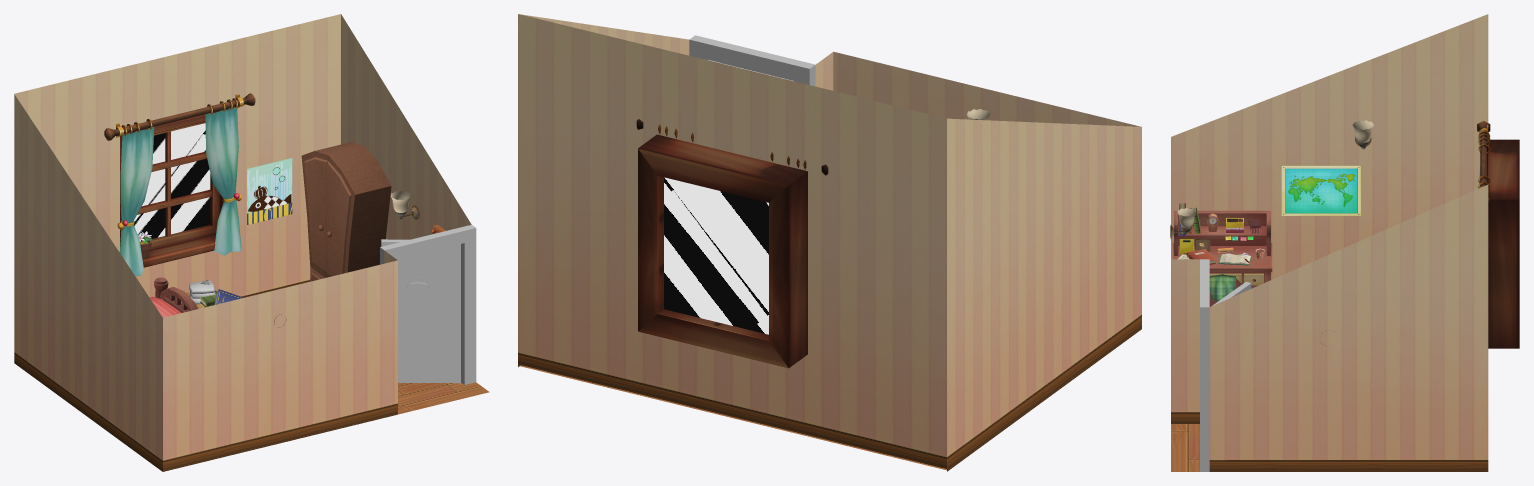
Rendered from toyroom.obj.
3 renders of one model, left to right at view 1: azimuth 30°, elevation 25°; view 2: azimuth 150°, elevation 25°; view 3: azimuth 270°, elevation 25°, orthographic. The views are drawn at different scales.
Visible parts, largest first — view 1: obj96, obj94, obj98, obj37, obj51, obj41, obj102, obj22, obj50, obj36, obj4; view 2: obj96, obj41, obj51, obj102, obj50; view 3: obj96, obj41, obj23, obj44, obj102, obj50, obj43, obj36, obj116.
Boxes of the visible parts, left/top/right/bottom form: obj96: left=14, top=14, right=471, bottom=471; obj94: left=301, top=142, right=391, bottom=281; obj98: left=381, top=239, right=461, bottom=383; obj37: left=119, top=107, right=241, bottom=275; obj51: left=134, top=123, right=210, bottom=238; obj41: left=120, top=107, right=233, bottom=267; obj102: left=380, top=224, right=476, bottom=384; obj22: left=247, top=158, right=292, bottom=224; obj50: left=398, top=382, right=489, bottom=414; obj36: left=104, top=93, right=255, bottom=140; obj4: left=159, top=287, right=198, bottom=312; obj96: left=518, top=14, right=1141, bottom=471; obj41: left=638, top=134, right=807, bottom=368; obj51: left=664, top=177, right=768, bottom=334; obj102: left=689, top=35, right=815, bottom=86; obj50: left=520, top=365, right=946, bottom=470; obj96: left=1171, top=14, right=1488, bottom=471; obj41: left=1487, top=139, right=1519, bottom=348; obj23: left=1281, top=165, right=1360, bottom=215; obj44: left=1172, top=210, right=1272, bottom=287; obj102: left=1200, top=259, right=1209, bottom=471; obj50: left=1171, top=424, right=1199, bottom=471; obj43: left=1209, top=273, right=1235, bottom=300; obj36: left=1477, top=121, right=1490, bottom=206; obj116: left=1352, top=120, right=1373, bottom=142.
Bounding box in the file's own units: 105 × 83.83 × 90.93.
